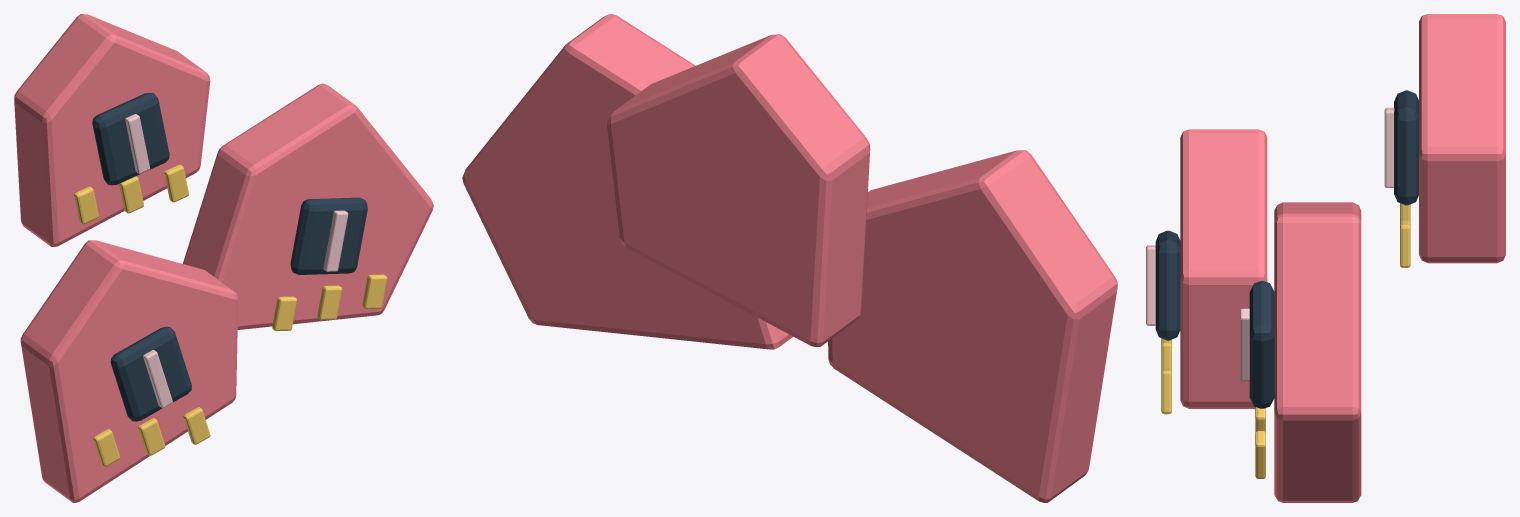
File: cache_fragment_item.glb
3 views of the same model, side by side, from view 1: azimuth 30°, elevation 25°; view 2: azimuth 150°, elevation 25°; view 3: azimuth 270°, elevation 25° (orthographic). The views are drawn at different scales.
Visible parts, largest first — view 1: Cache Fragment shard, Fragment core, Broken gold connector, Glowing cache trace; view 2: Cache Fragment shard; view 3: Cache Fragment shard, Fragment core, Glowing cache trace, Broken gold connector.
Boxes of the visible parts, bbox=[...] form: Cache Fragment shard: bbox=[14, 14, 433, 502]; Fragment core: bbox=[92, 92, 367, 421]; Broken gold connector: bbox=[74, 164, 387, 466]; Glowing cache trace: bbox=[125, 114, 348, 408]; Cache Fragment shard: bbox=[462, 14, 1117, 502]; Cache Fragment shard: bbox=[1180, 14, 1505, 502]; Fragment core: bbox=[1155, 90, 1418, 408]; Glowing cache trace: bbox=[1146, 107, 1394, 381]; Broken gold connector: bbox=[1161, 203, 1410, 478].
Size of the model in its own units: 0.841 by 0.6978 by 0.4975.
